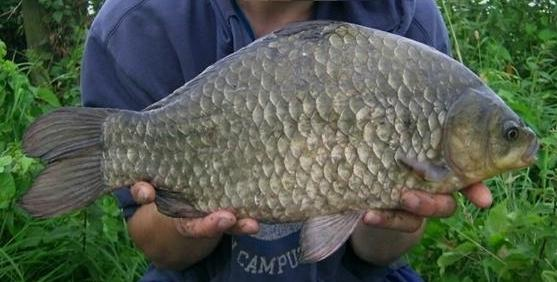Grass Carp: (24, 17, 544, 264)
